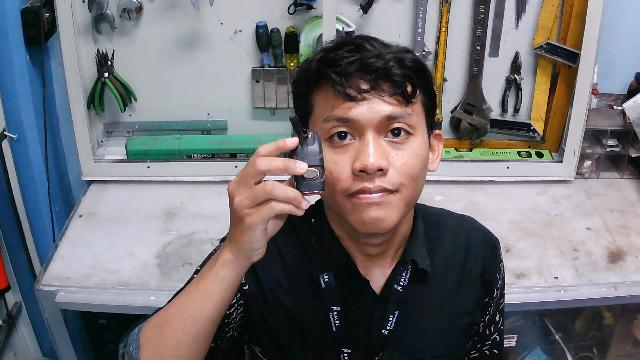meteran: (275, 112, 333, 204)
